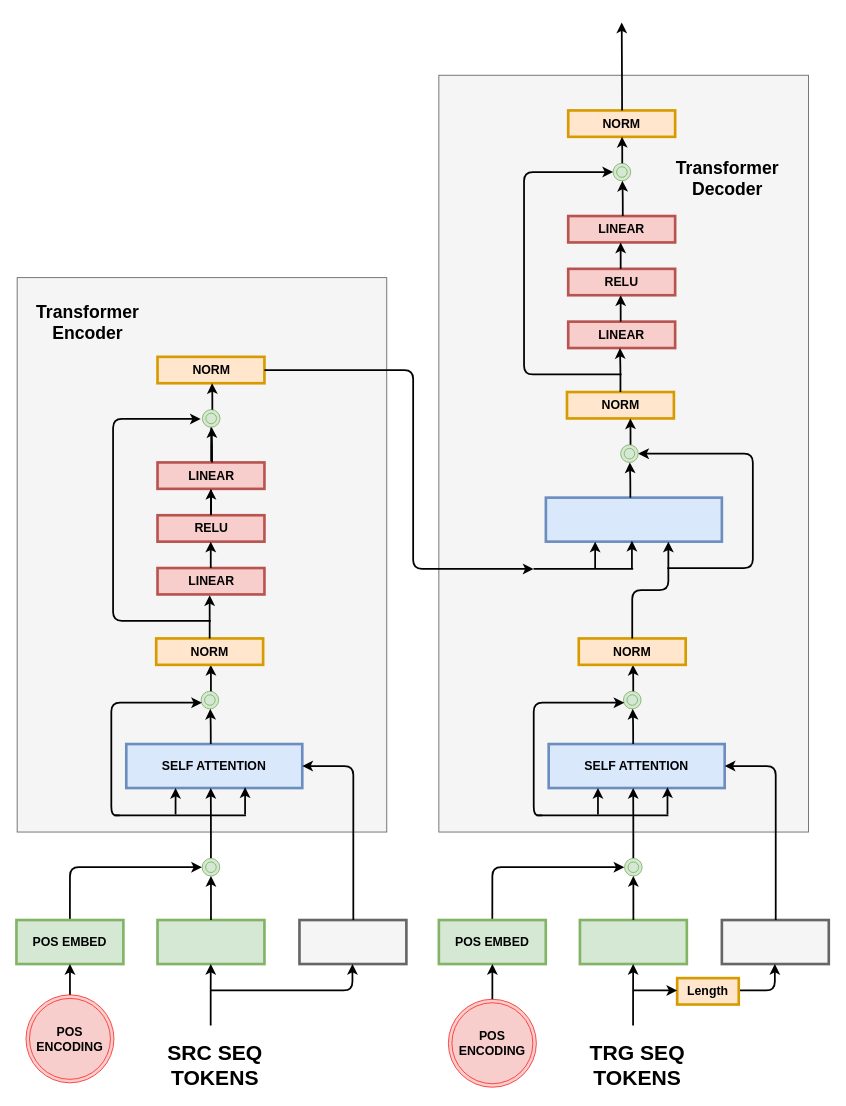
This 846x1106 diagram has some shape labels left out. The centre of each missing label's shape, as x and y in pixels:
CROSS ATTENTION: pixel 633 519
SRC EMBED: pixel 210 941
SRC MASK: pixel 352 941
TRG EMBED: pixel 633 941
TRG MASK: pixel 775 941
